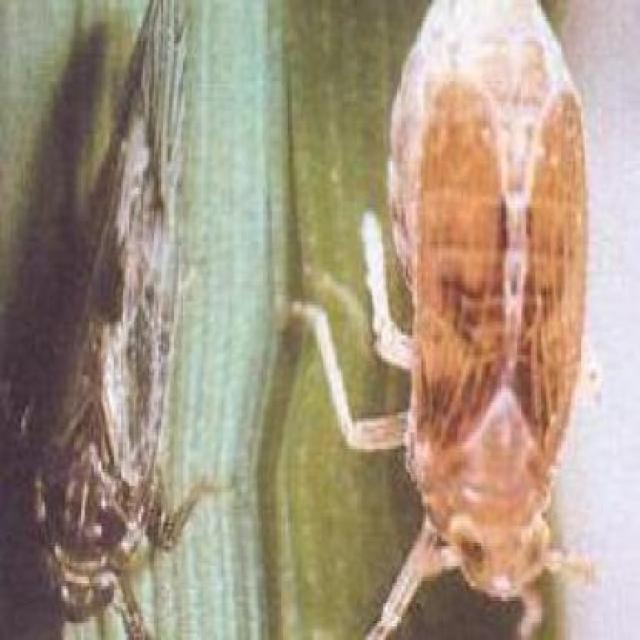brown-planthopper: (383, 0, 589, 600), (19, 5, 198, 623)
